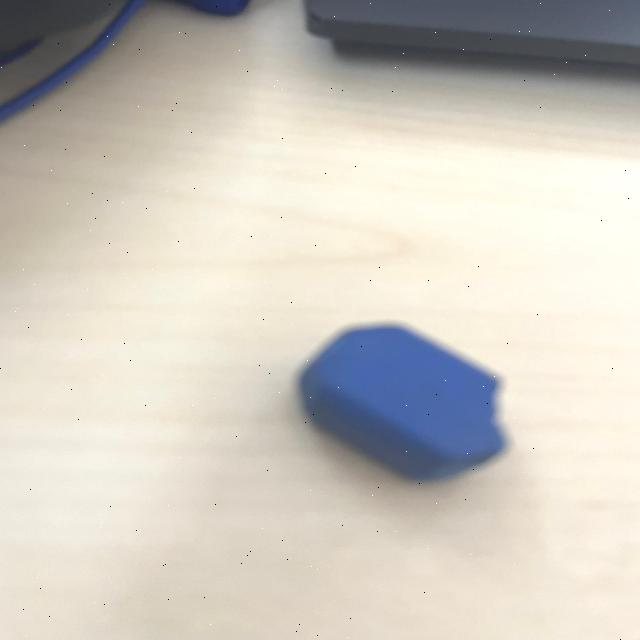eraser: (289, 312, 509, 481)
